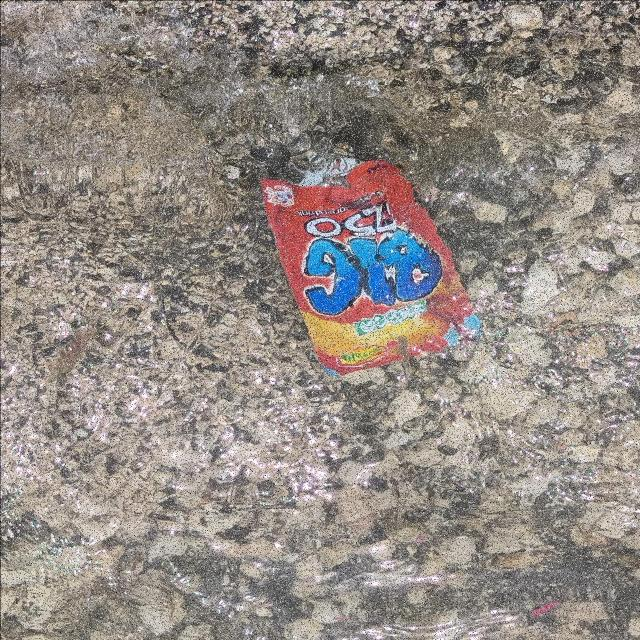plastic_waste: (259, 133, 486, 379)
